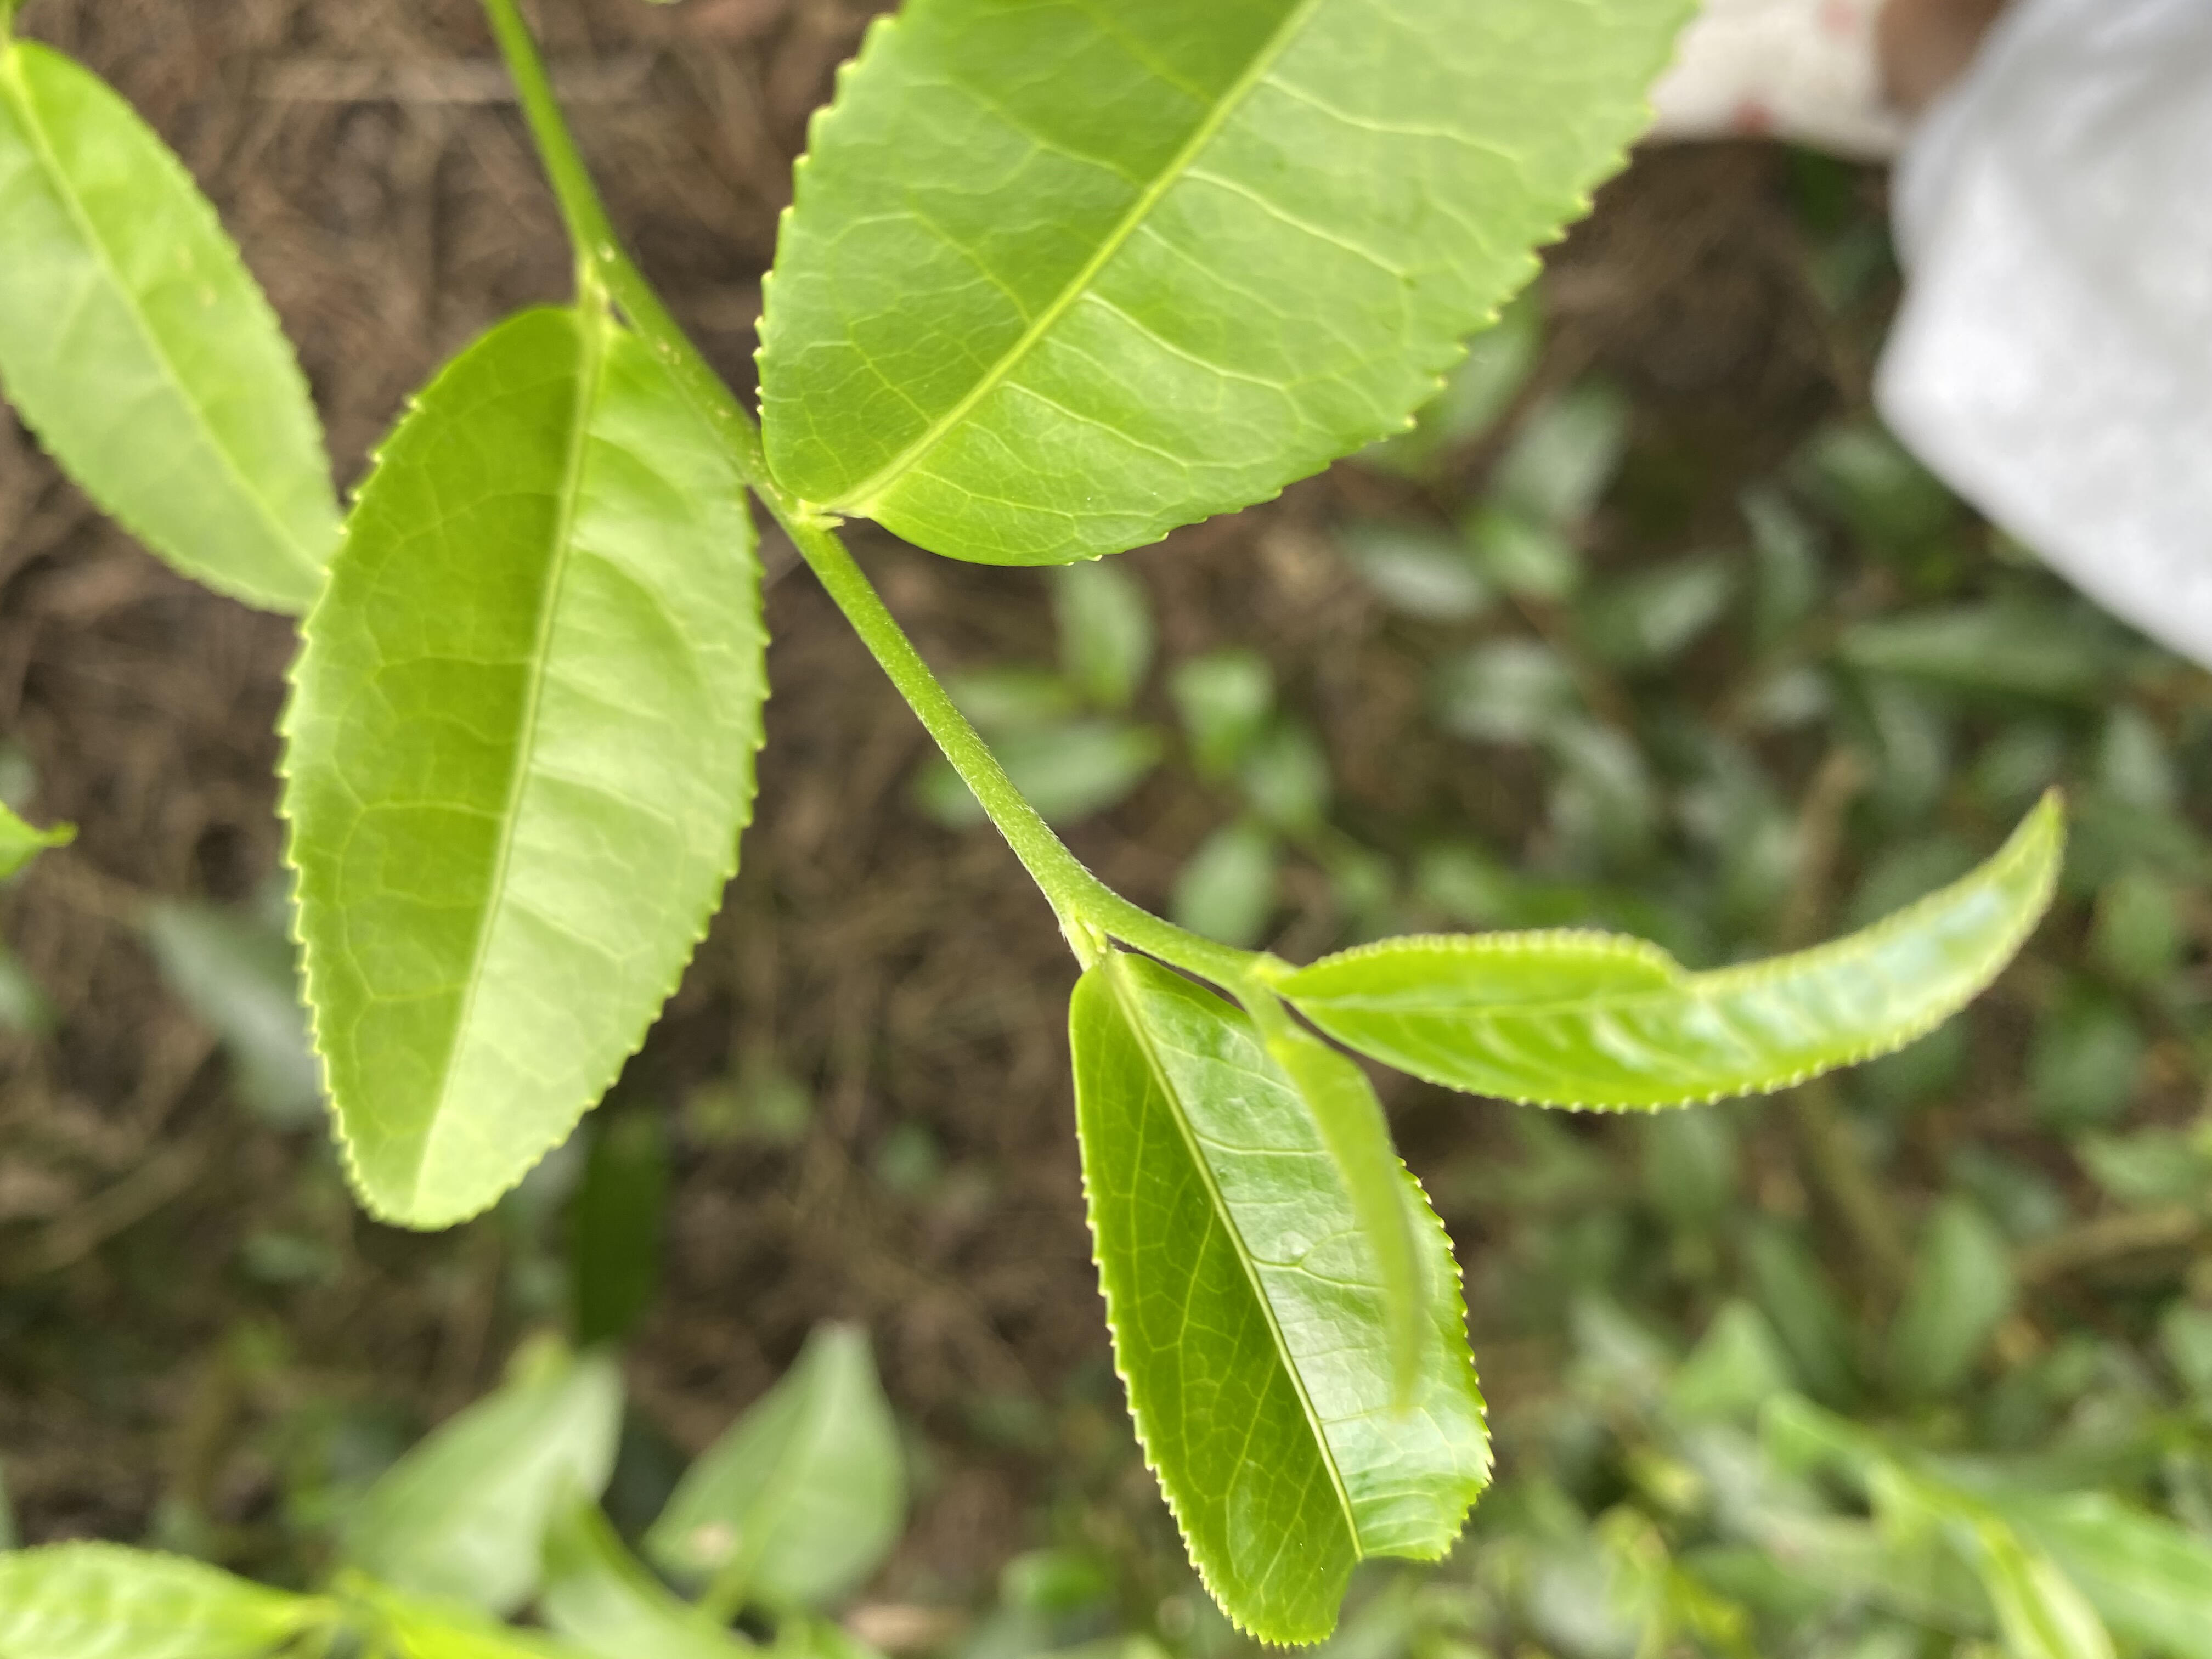healthy: (749, 3, 1700, 573), (270, 307, 773, 1232), (1066, 953, 1494, 1650), (1292, 791, 2073, 1114)
